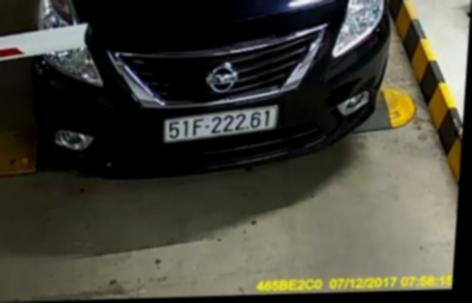License_Plate: (152, 98, 286, 143)
